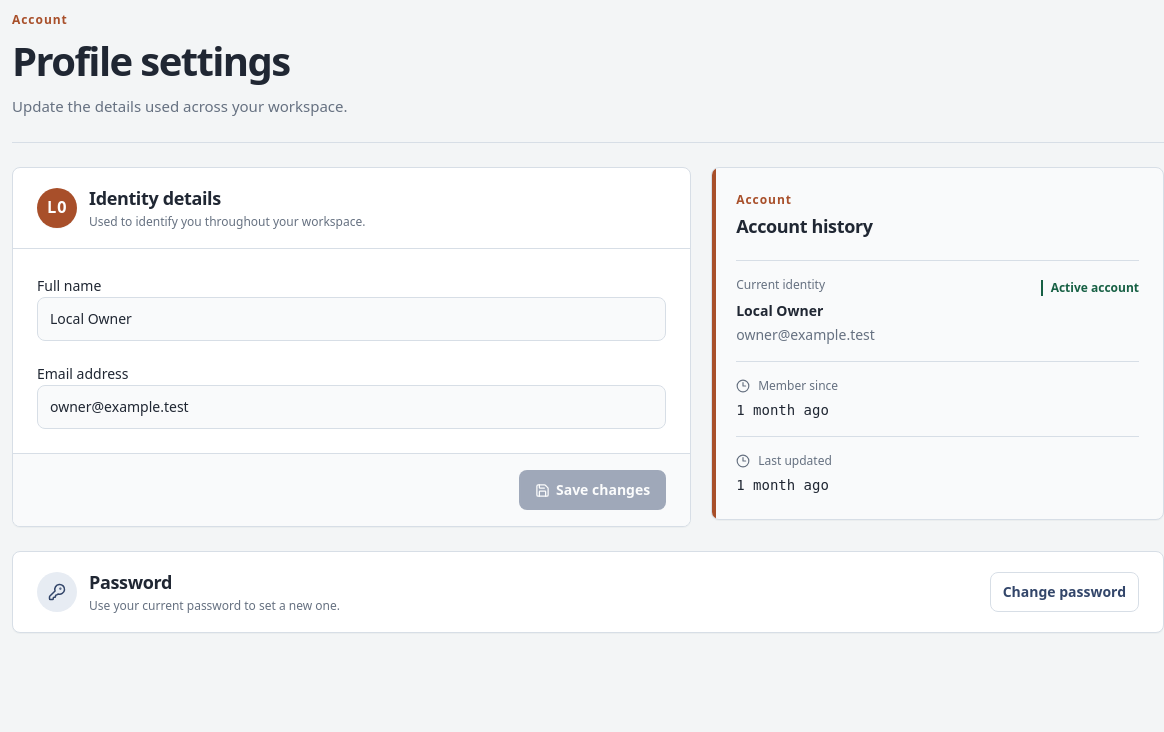
Scenario: profile settings workflow › shows local validation errors
This screenshot has width=1164, height=732.
Replace the text in the field labelled "Full name" with "A" at (352, 319), box [37,297,666,341]
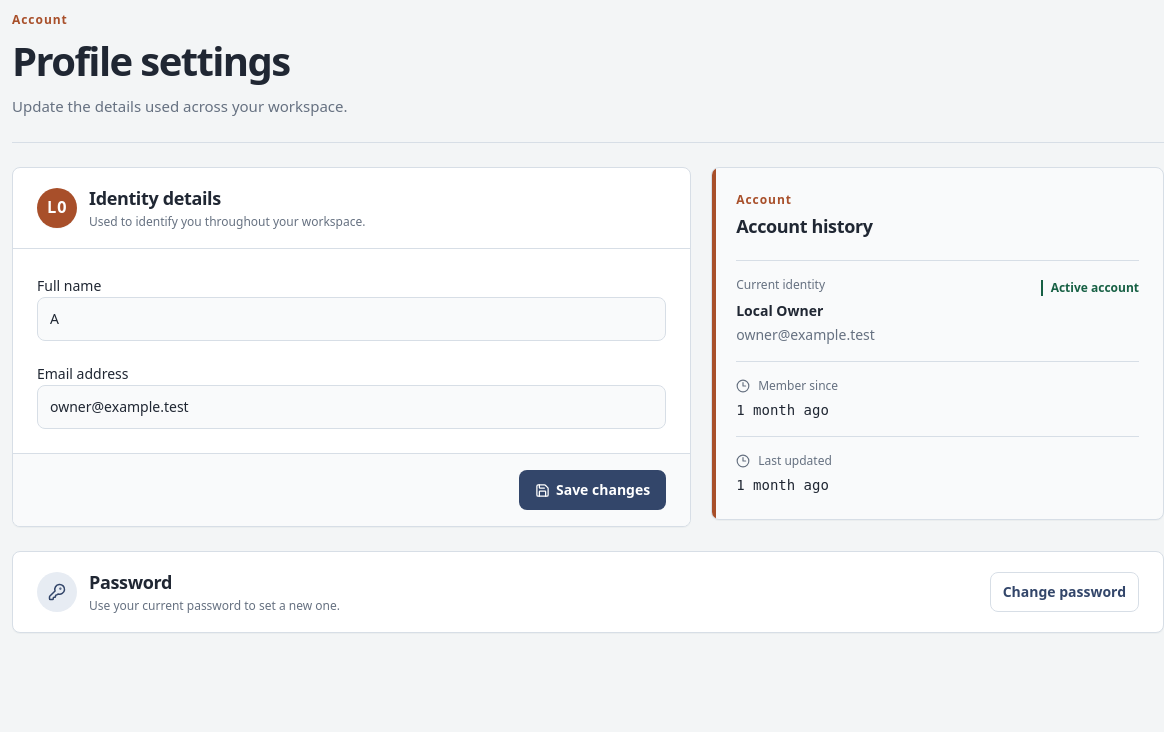
Replace the text in the field labelled "Email address" with "invalid" at (352, 407), box [37,385,666,429]
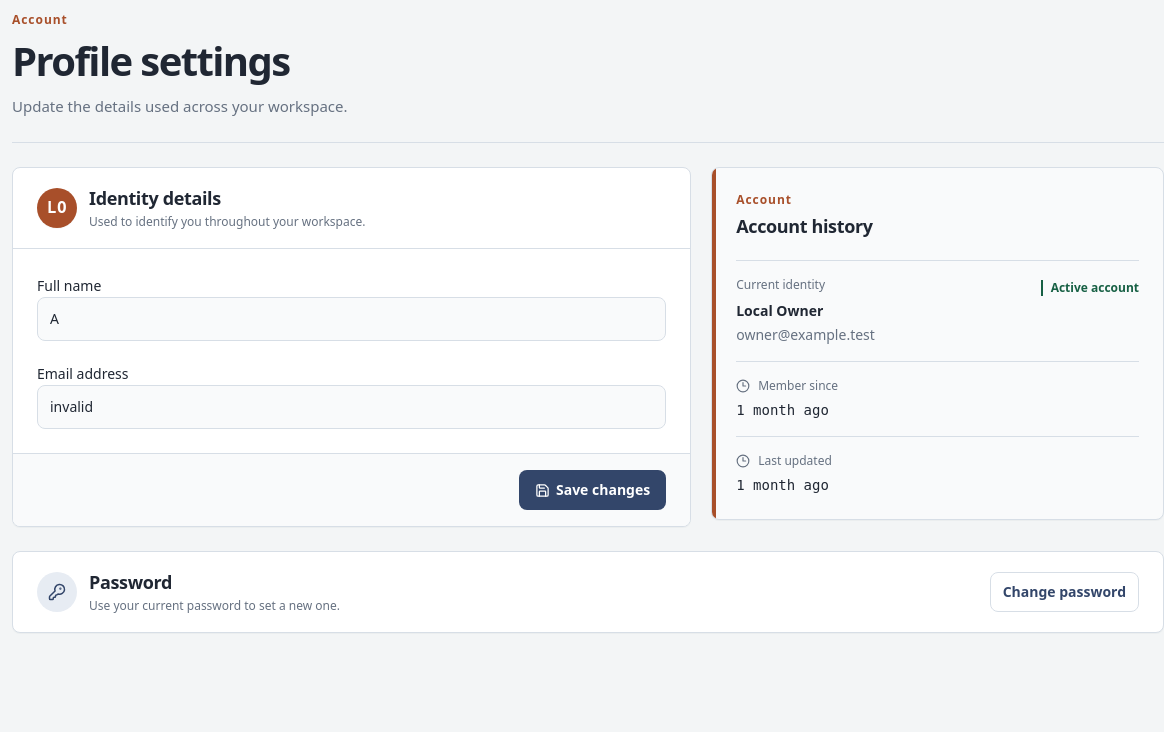
Submit the form named "Profile settings form", box [13,168,690,526]
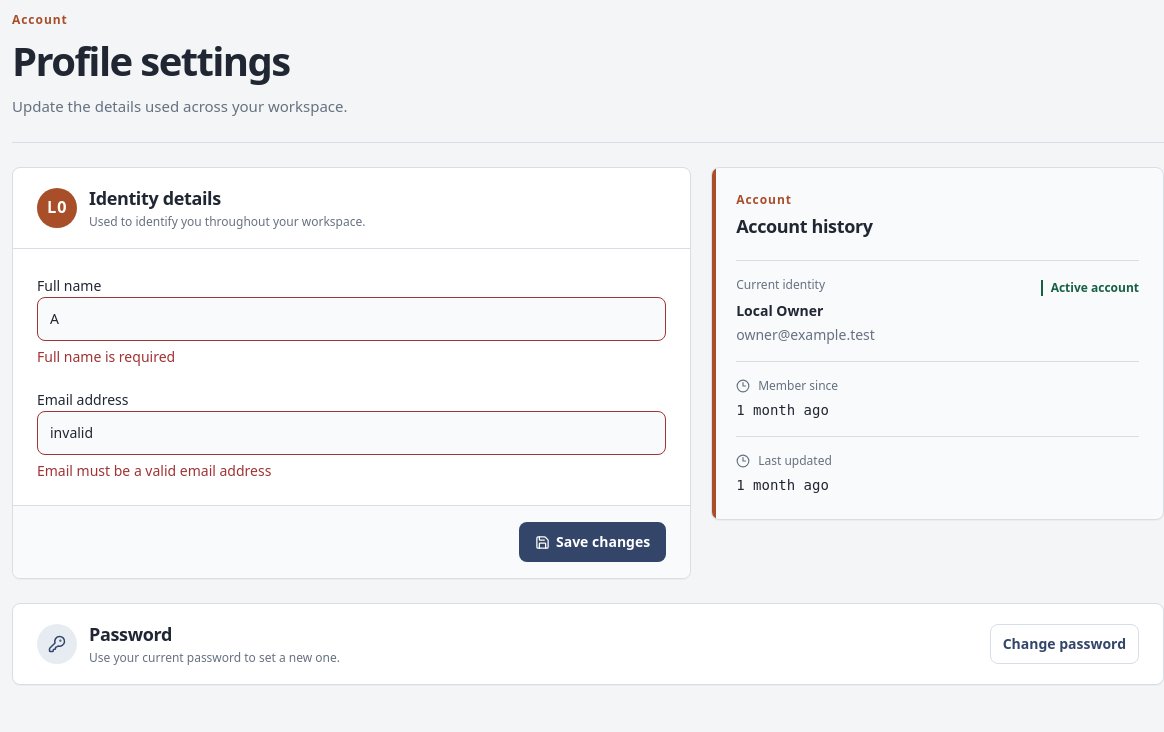
Expected: the text "Full name is required" is shown, [37,347,175,366]
Expected: the text "Email must be a valid email address" is shown, [37,461,271,480]
